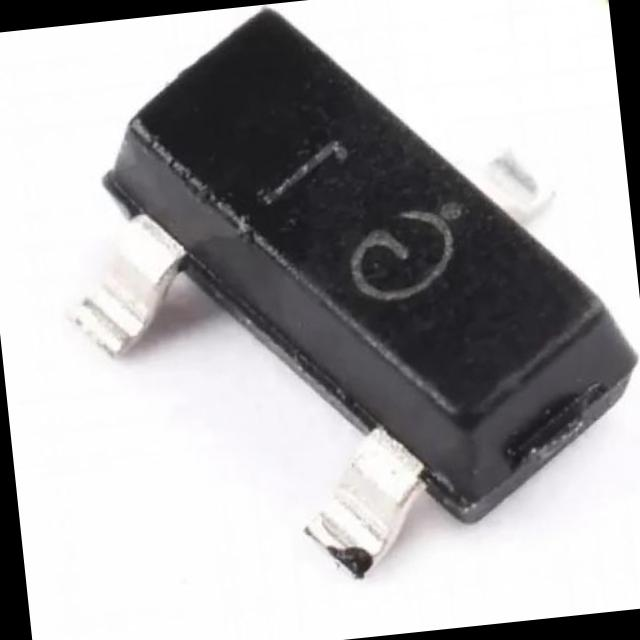transistor: (6, 0, 640, 621)
